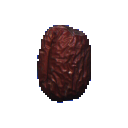ng: (30, 19, 100, 112)
